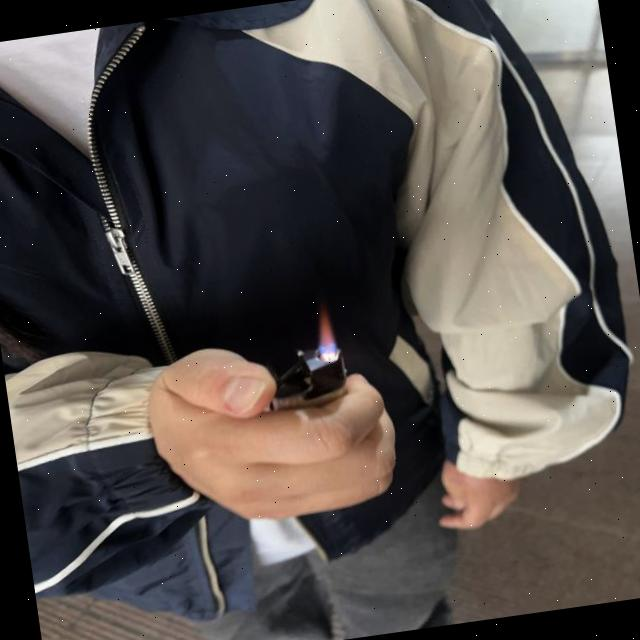fire: (312, 307, 340, 360)
